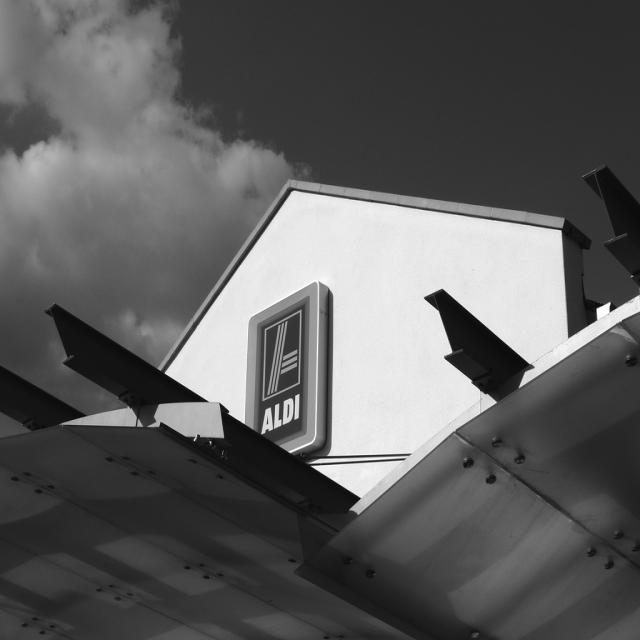aldi: (246, 284, 318, 453)
